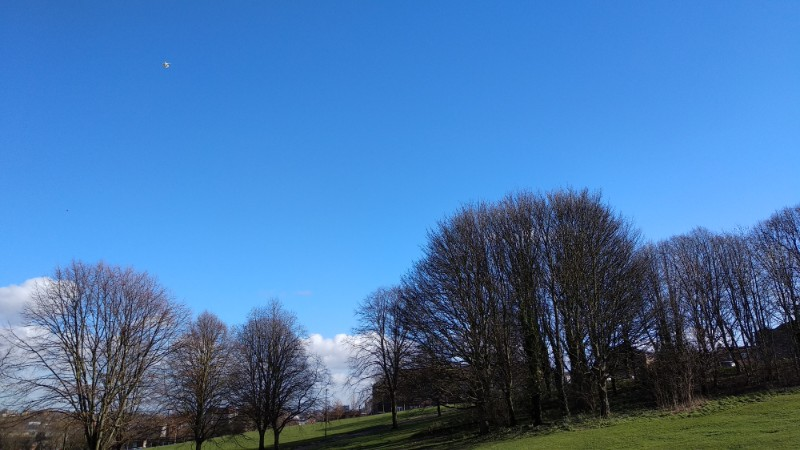drone: (160, 57, 171, 69)
